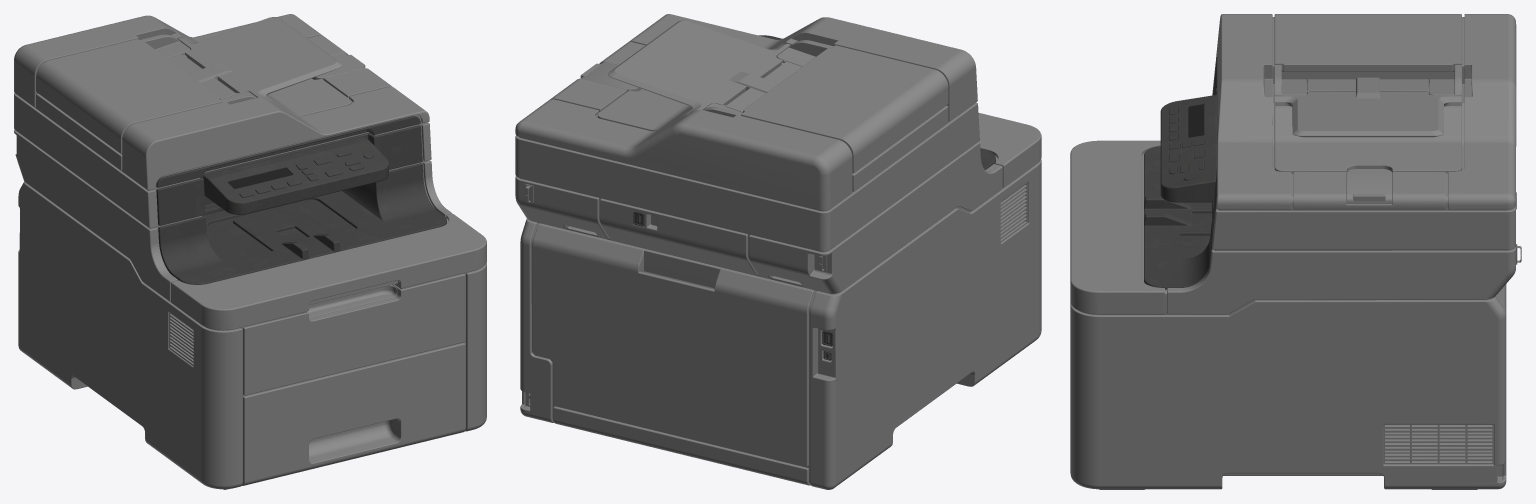
The model's file is computer_printer_office_a01.glb.
The picture shows the model from 3 angles, left to right: view 1: azimuth 30°, elevation 25°; view 2: azimuth 150°, elevation 25°; view 3: azimuth 270°, elevation 25°; orthographic projection. The views are drawn at different scales.
Parts seen in each view (by area): view 1: sm_computer_printer_office_a01_mesh_00; view 2: sm_computer_printer_office_a01_mesh_00; view 3: sm_computer_printer_office_a01_mesh_00.
Boxes of the visible parts, <box> form: sm_computer_printer_office_a01_mesh_00: <box>14,14,486,489</box>; sm_computer_printer_office_a01_mesh_00: <box>515,14,1041,489</box>; sm_computer_printer_office_a01_mesh_00: <box>1070,14,1521,489</box>.
Bounding box in the file's own units: 0.4064 × 0.4283 × 0.5111.
Materials: 3 (1 with a texture image).
